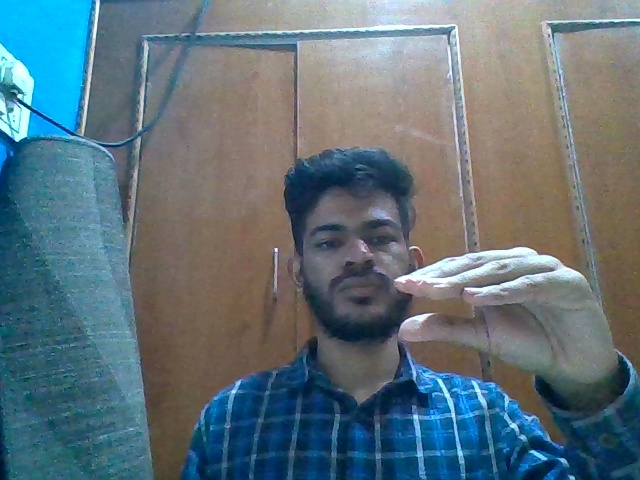no: (393, 245, 620, 392)
